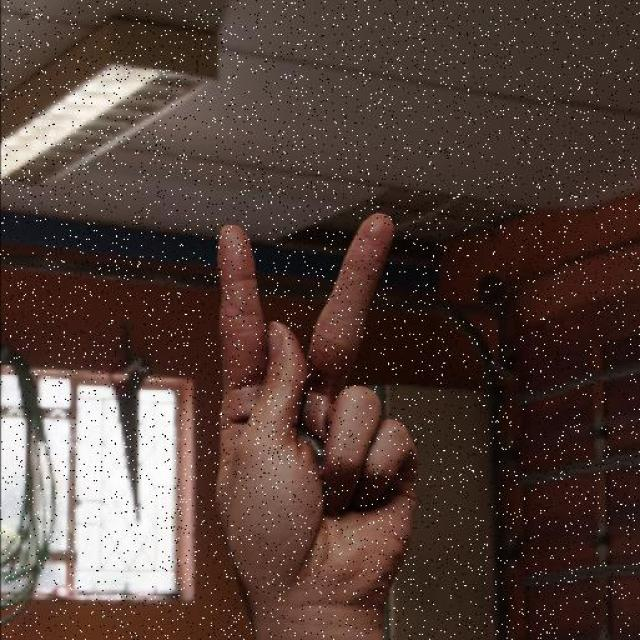K: (213, 206, 420, 604)
